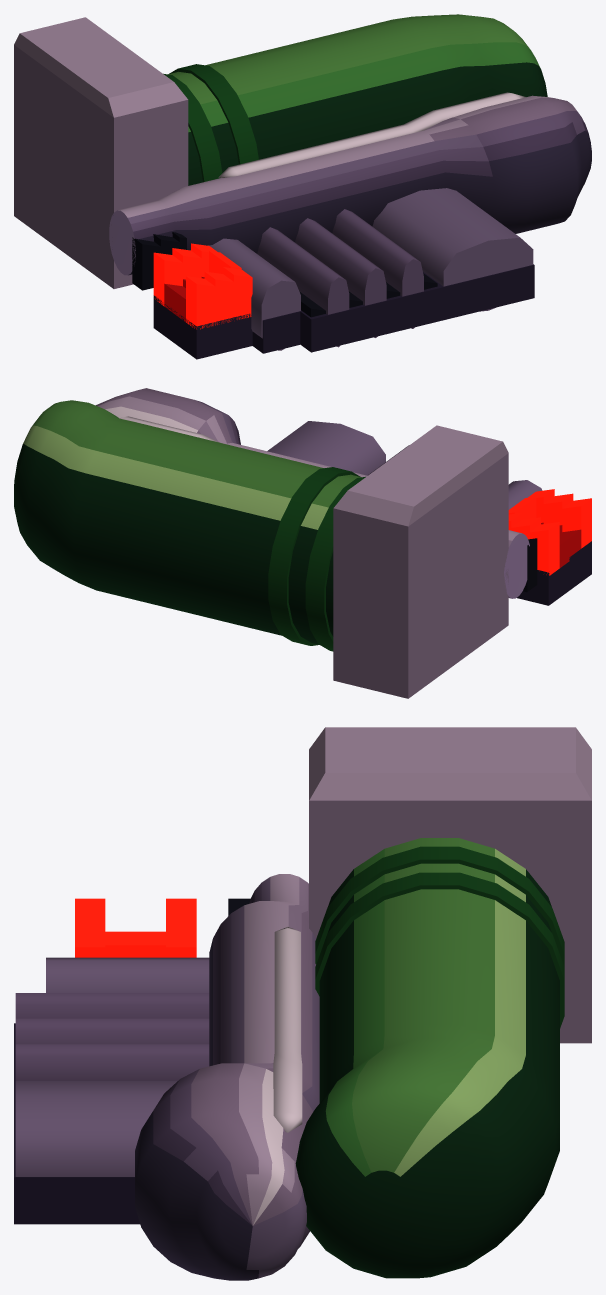
File: newshc-199.glb
3 views of the same model, one above another, from view 1: azimuth 30°, elevation 25°; view 2: azimuth 150°, elevation 25°; view 3: azimuth 270°, elevation 25° (orthographic). The views are drawn at different scales.
Visible parts, largest first — view 1: newshc-199; view 2: newshc-199; view 3: newshc-199.
Boxes of the visible parts, x1,y1,x2,y2 form: newshc-199: (14,14,591,359); newshc-199: (14,388,591,698); newshc-199: (14,727,591,1280).
Size of the model in its own units: 2 by 0.85 by 1.58.
